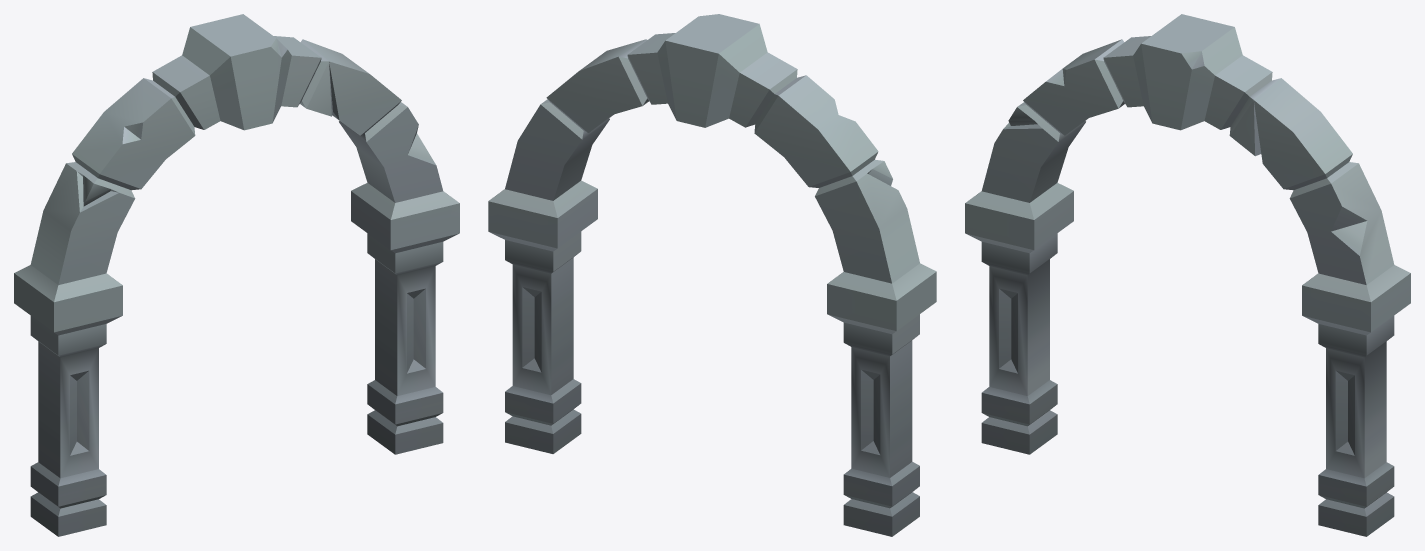
File: h_arch.glb
The picture shows the model from 3 angles, left to right: view 1: azimuth 30°, elevation 25°; view 2: azimuth 150°, elevation 25°; view 3: azimuth 330°, elevation 25°; orthographic projection.
Visible parts, largest first — view 1: arch; view 2: arch; view 3: arch.
Boxes of the visible parts, x1,y1,x2,y2 form: arch: (14, 14, 459, 536); arch: (488, 14, 936, 536); arch: (965, 14, 1410, 536).
Size of the model in its own units: 4.22 by 4.41 by 0.77.
Materials: 1 (1 with a texture image).
